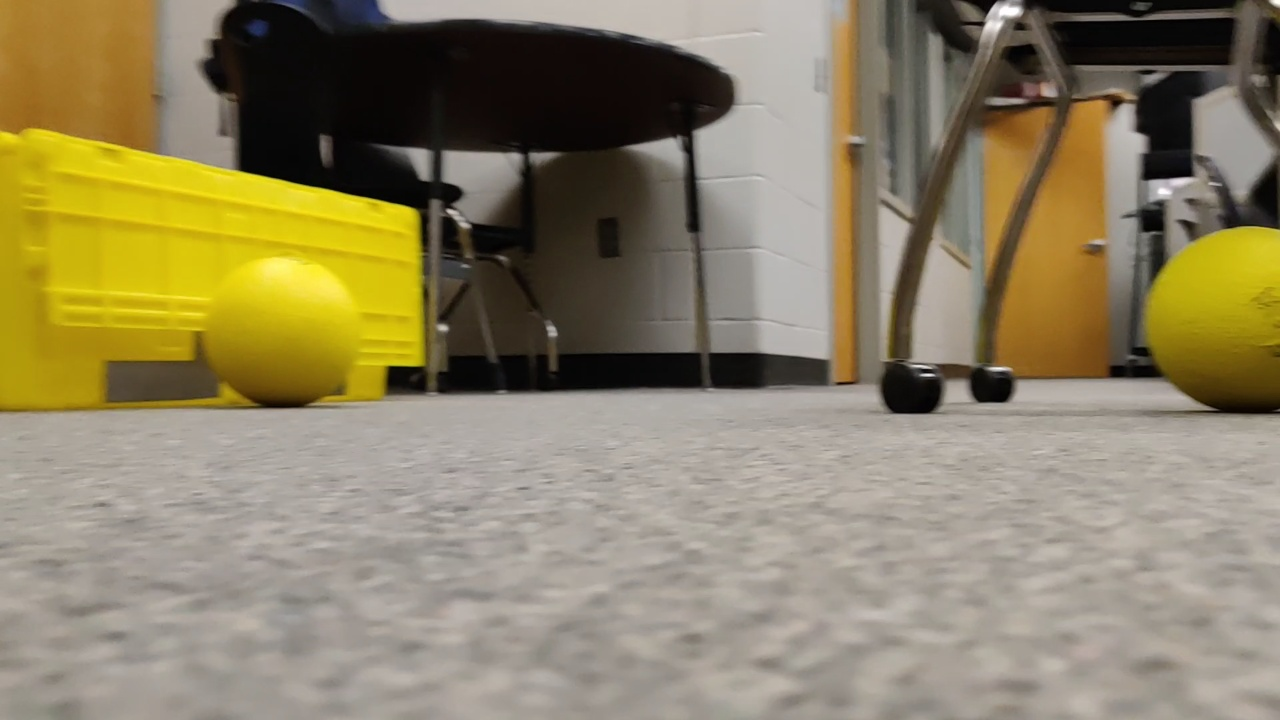Ball: (1137, 206, 1280, 410), (182, 254, 369, 400)
